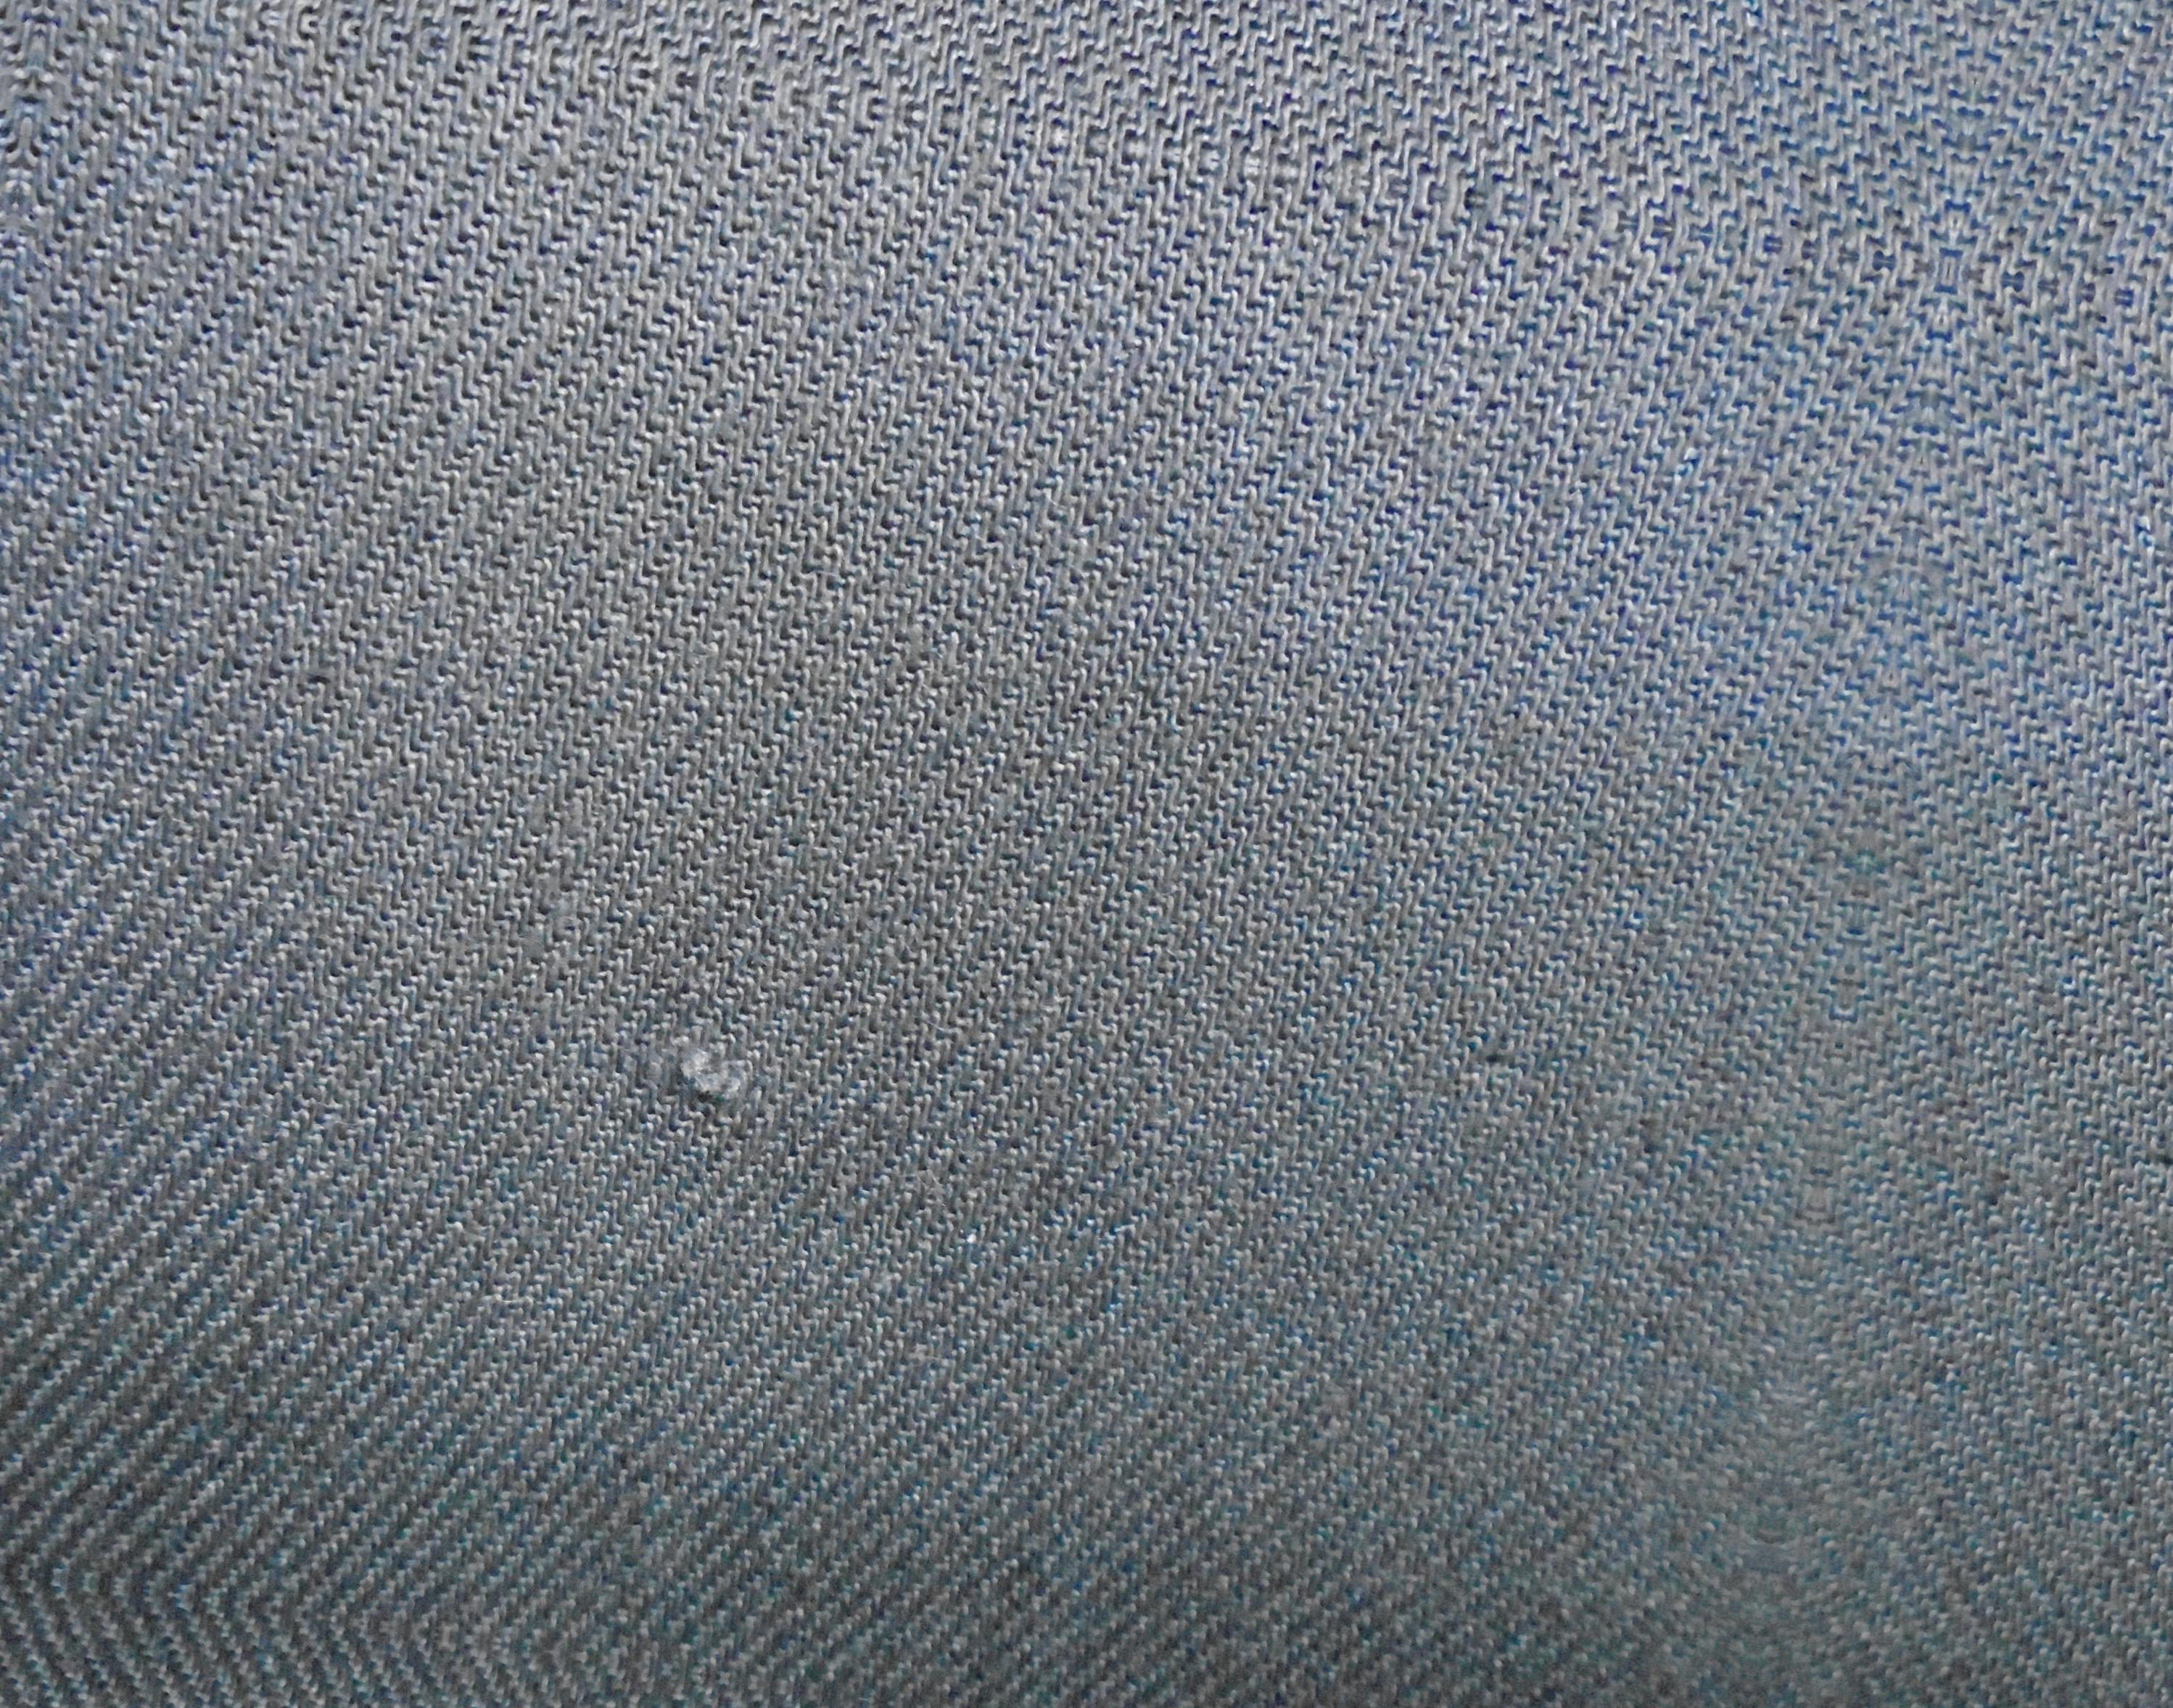knot: (646, 1016, 792, 1140)
